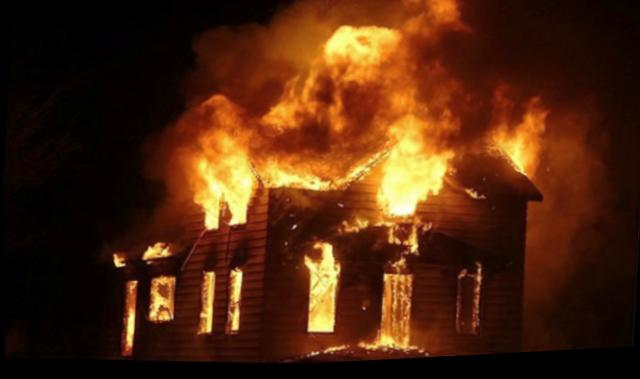fire: (63, 0, 569, 374)
